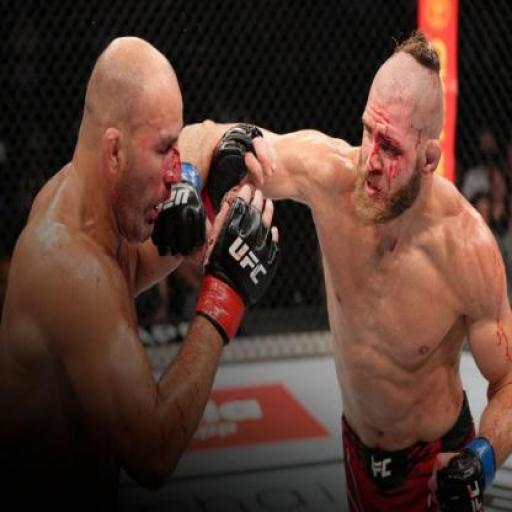Fighting: (4, 29, 512, 512)
